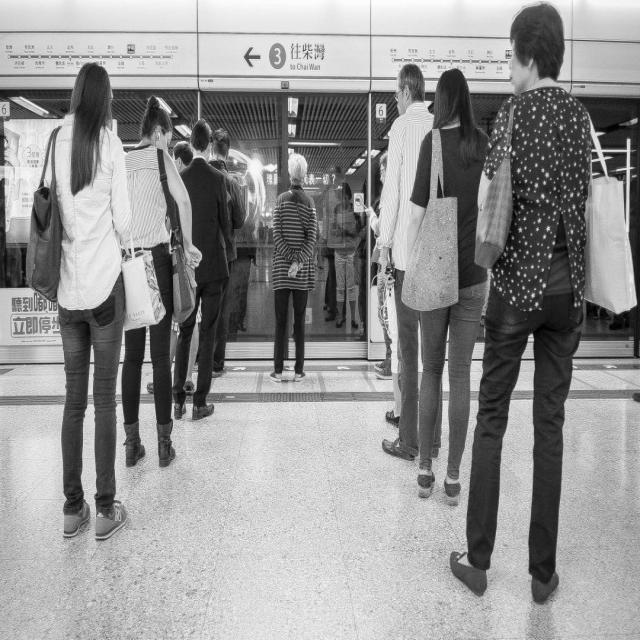body: (447, 0, 639, 609), (41, 61, 130, 543), (404, 66, 491, 510), (117, 93, 203, 471), (230, 143, 383, 340), (381, 62, 443, 462), (172, 118, 232, 423), (268, 150, 318, 385), (385, 137, 424, 428), (204, 127, 247, 379), (361, 150, 394, 381), (172, 139, 194, 175)
